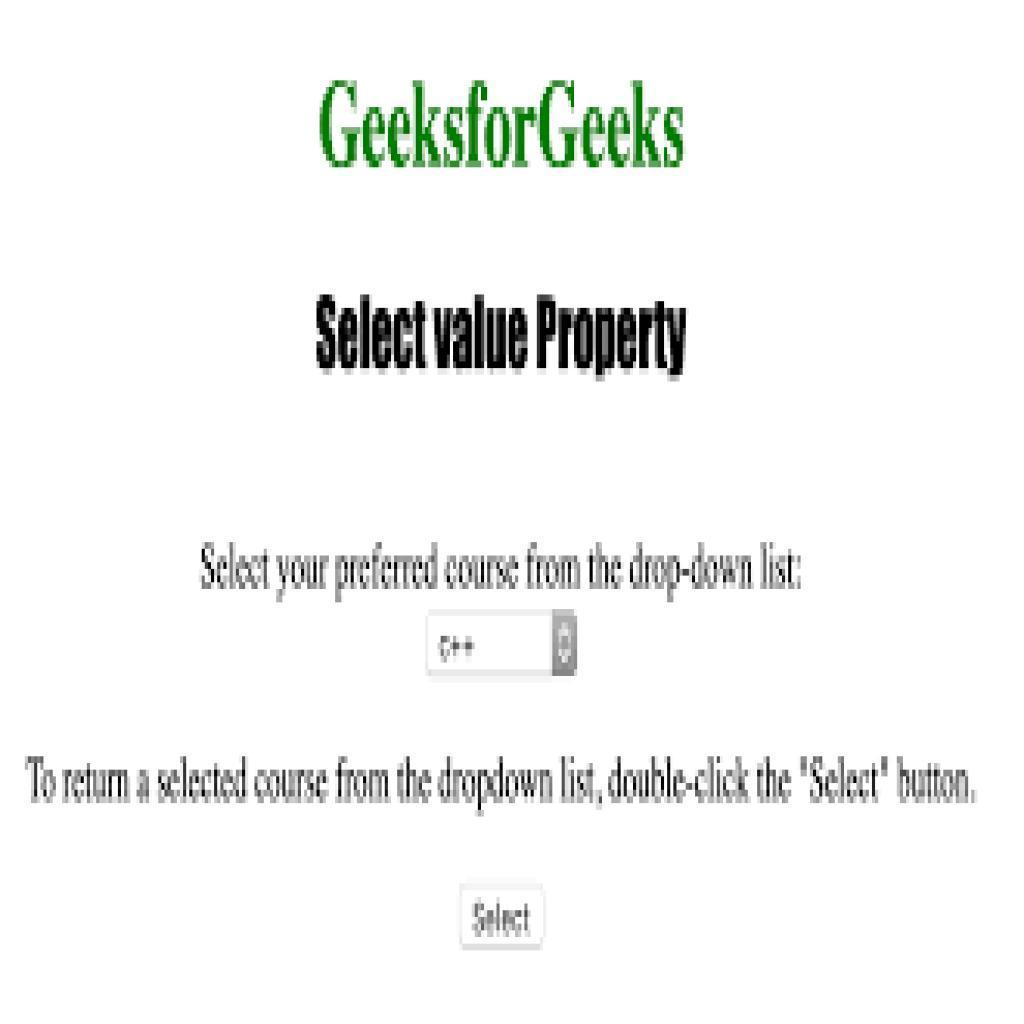button: (461, 885, 541, 947)
dropdown: (427, 612, 579, 675)
label: (20, 750, 987, 814), (191, 532, 809, 599)
